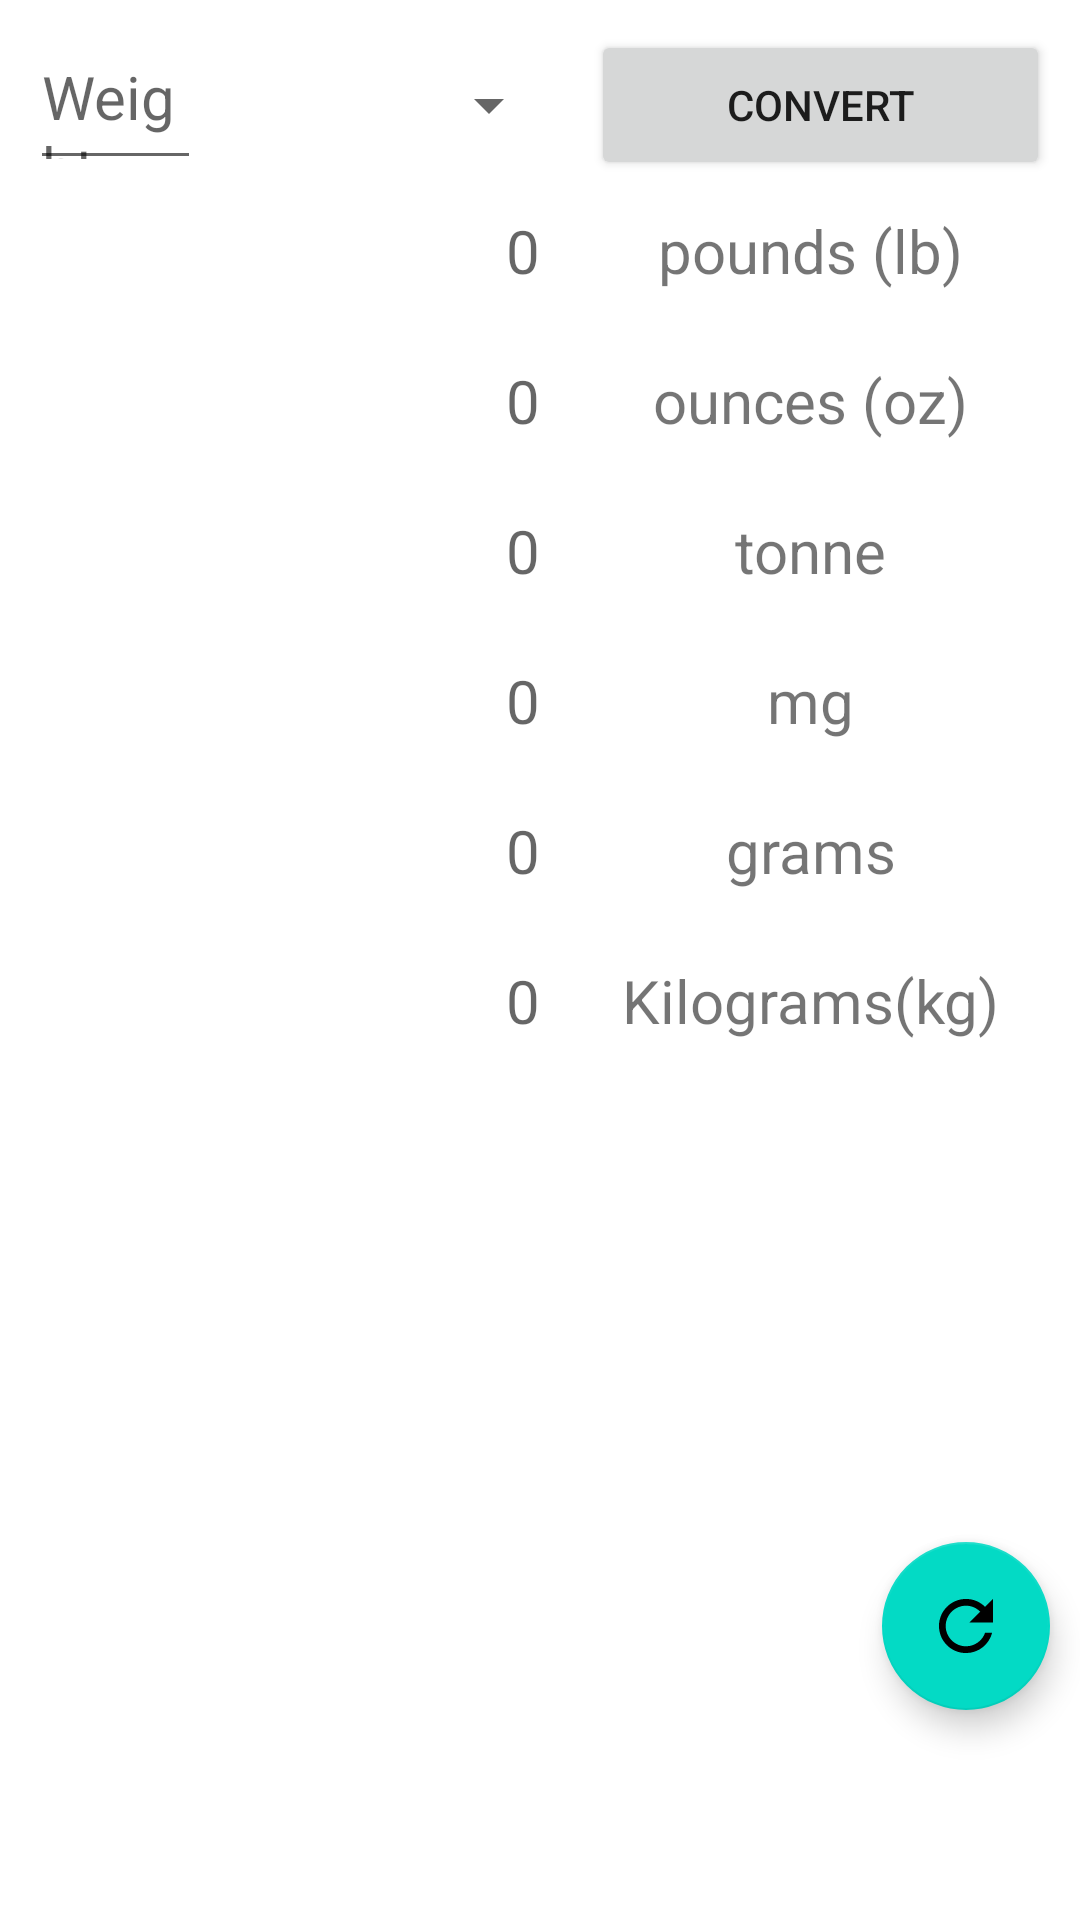

Where to tap for icons on this 1080px x 1920px app screen, as (x,y):
refresh: (966,1626)
